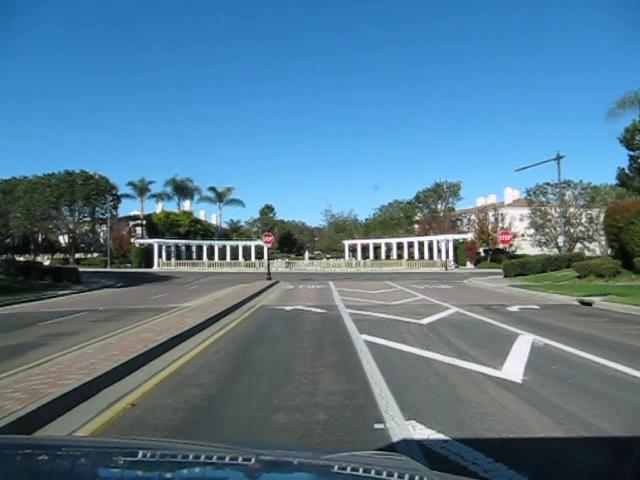stop: (498, 229, 513, 245), (260, 231, 274, 245)
